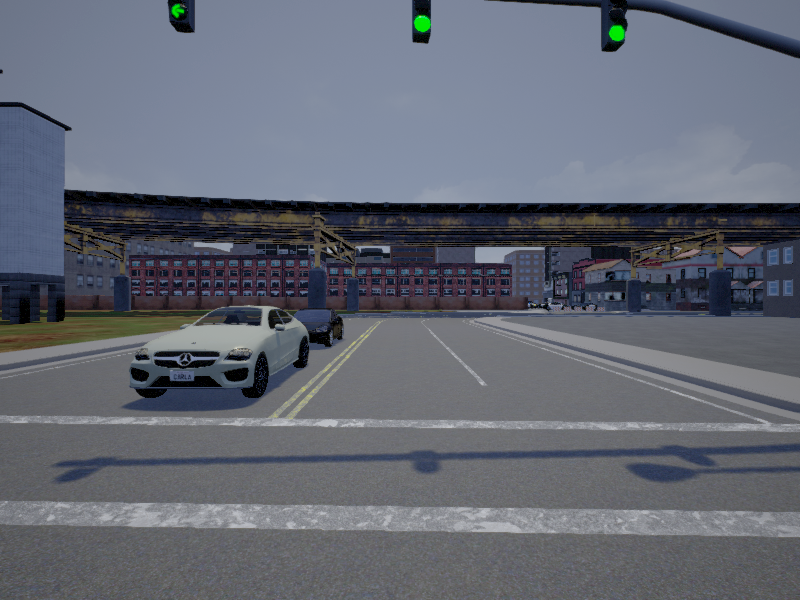Benign: (131, 305, 307, 397), (293, 308, 343, 347)
